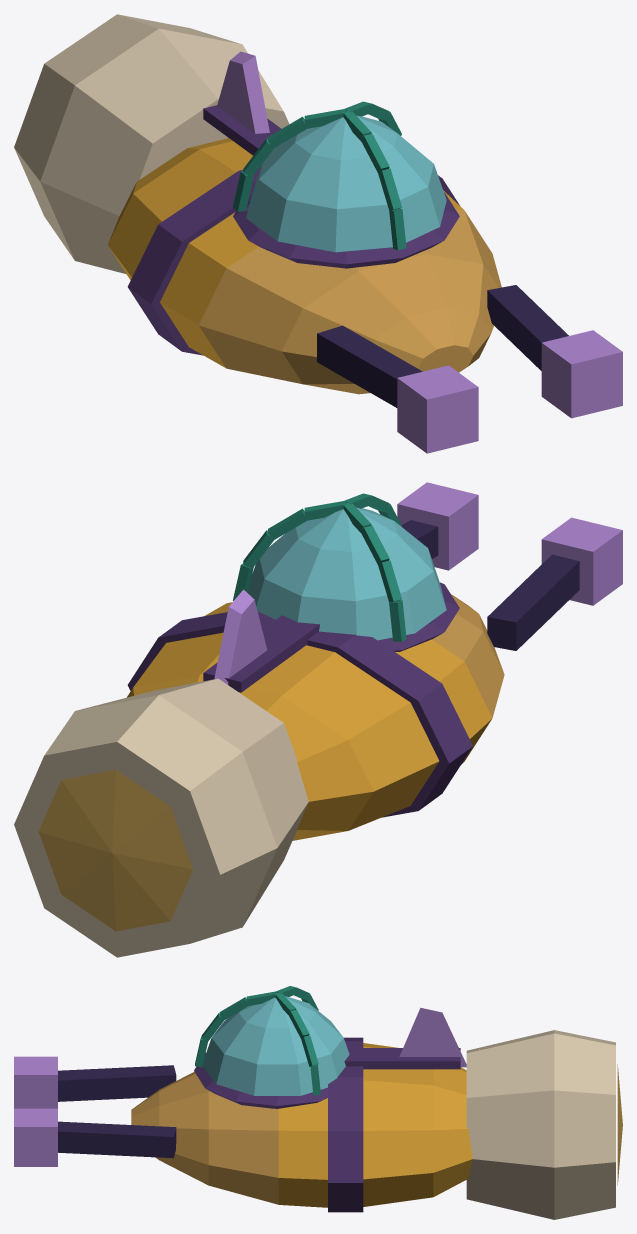
The model's file is tug.gltf.
3 views of the same model, one above another, from view 1: azimuth 30°, elevation 25°; view 2: azimuth 150°, elevation 25°; view 3: azimuth 270°, elevation 25° (orthographic). The views are drawn at different scales.
Visible parts, largest first — view 1: hull, engine, cab, claws, arms, pennant, stripe; view 2: engine, hull, cab, claws, arms, pennant, stripe; view 3: hull, engine, cab, arms, claws, pennant, stripe.
Part boxes in pixels (x1,y1,x2,y2): hull: (108, 138, 501, 394); engine: (14, 14, 289, 273); cab: (233, 101, 459, 268); claws: (397, 330, 622, 453); arms: (317, 285, 568, 407); pennant: (217, 51, 269, 133); stripe: (203, 105, 281, 155); engine: (14, 678, 308, 957); hull: (127, 594, 504, 840); cab: (233, 493, 459, 651); claws: (397, 482, 622, 605); arms: (402, 520, 579, 650); pennant: (214, 589, 267, 684); stripe: (203, 615, 319, 692); hull: (131, 1037, 472, 1212); engine: (466, 1030, 622, 1219); cab: (194, 986, 349, 1108); arms: (58, 1065, 176, 1158); claws: (14, 1056, 57, 1166); pennant: (399, 1007, 466, 1067); stripe: (344, 1048, 460, 1069).
Size of the model in its own units: 1.87 by 1.69 by 4.16.
